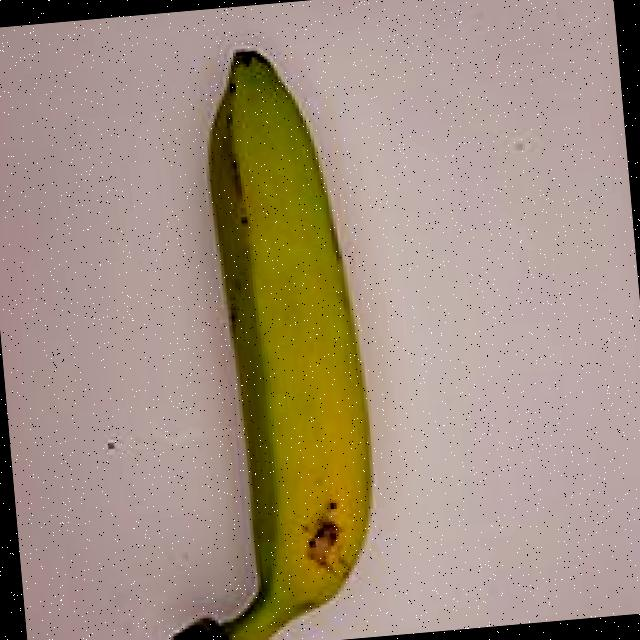Unripe: (93, 12, 430, 640)
